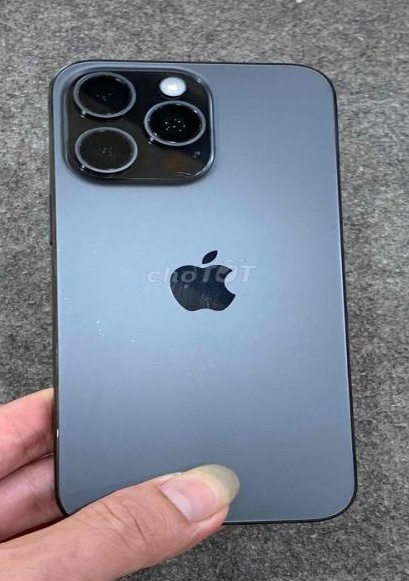physical_damage: (170, 168, 193, 176)
scratch: (88, 234, 108, 254), (196, 292, 213, 310), (57, 332, 69, 355), (95, 317, 105, 339), (54, 237, 65, 254), (53, 426, 60, 438), (128, 338, 137, 344), (61, 296, 69, 301)
